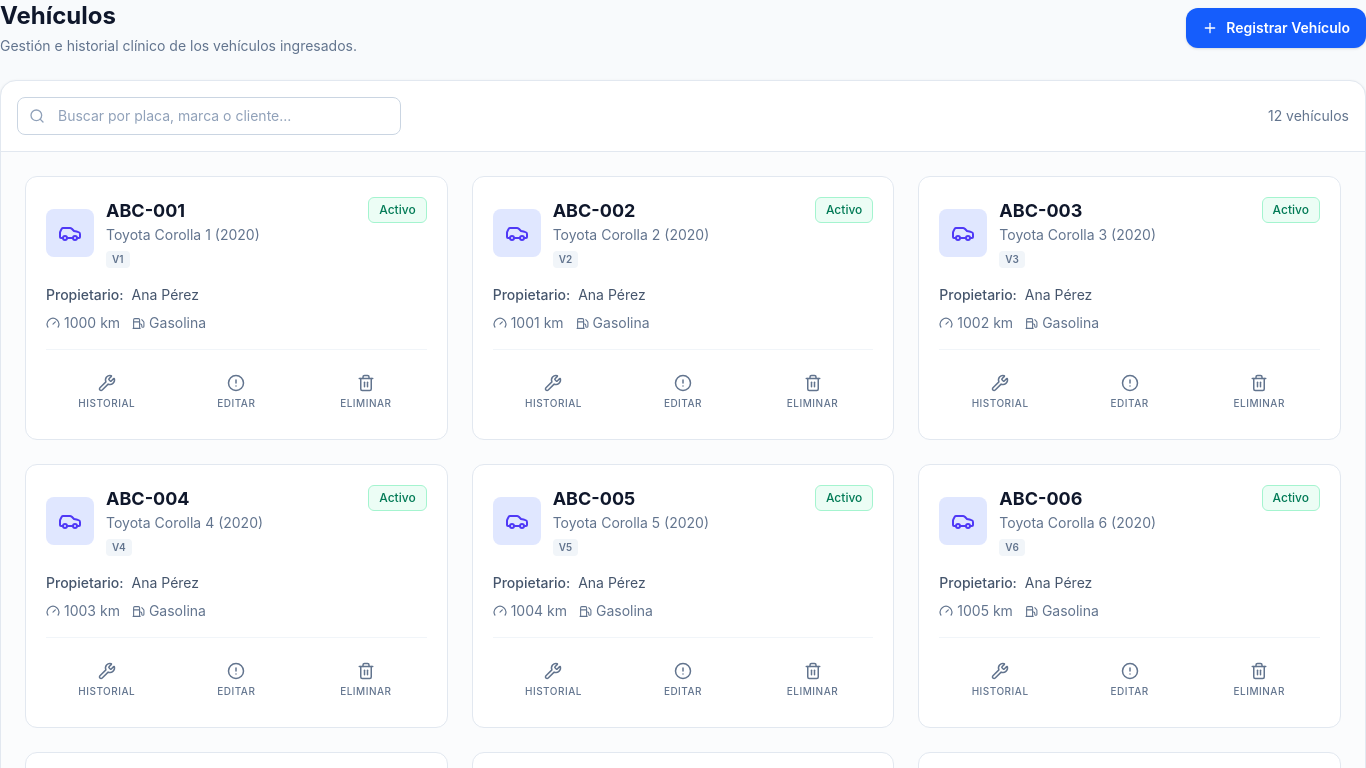
Scenario: Vehicles (vehículos) › filtra por placa con la búsqueda
Expected: the heading "ABC-001" is shown, [106, 200, 185, 221]
Type "ABC-002" into the field with placeholder "Buscar por placa, marca o cliente...".
click(209, 116); type("ABC-002")  # box [17, 97, 401, 135]
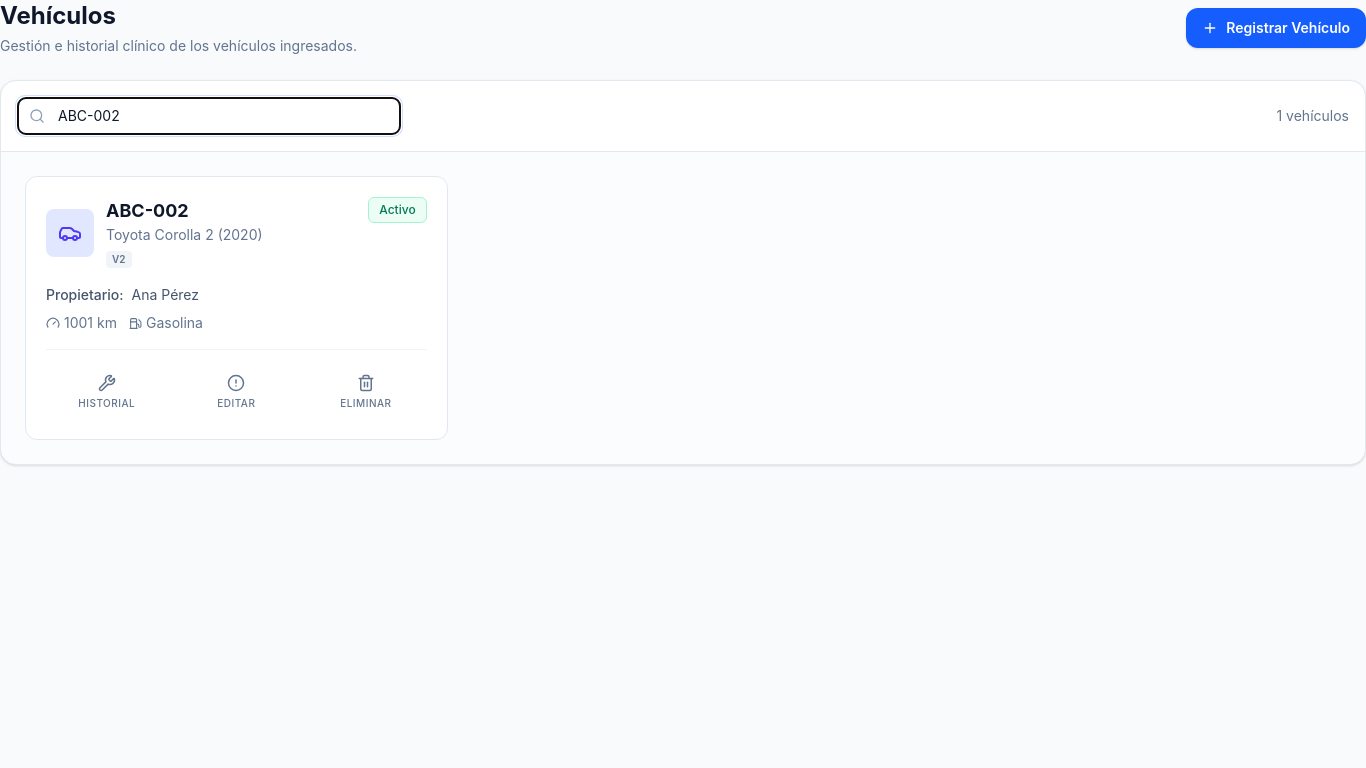
Expected: the heading "ABC-002" is shown, [106, 200, 189, 221]
Expected: the text "1 vehículos" is shown, [1276, 106, 1349, 126]
Expected: the heading "ABC-003" is gone
